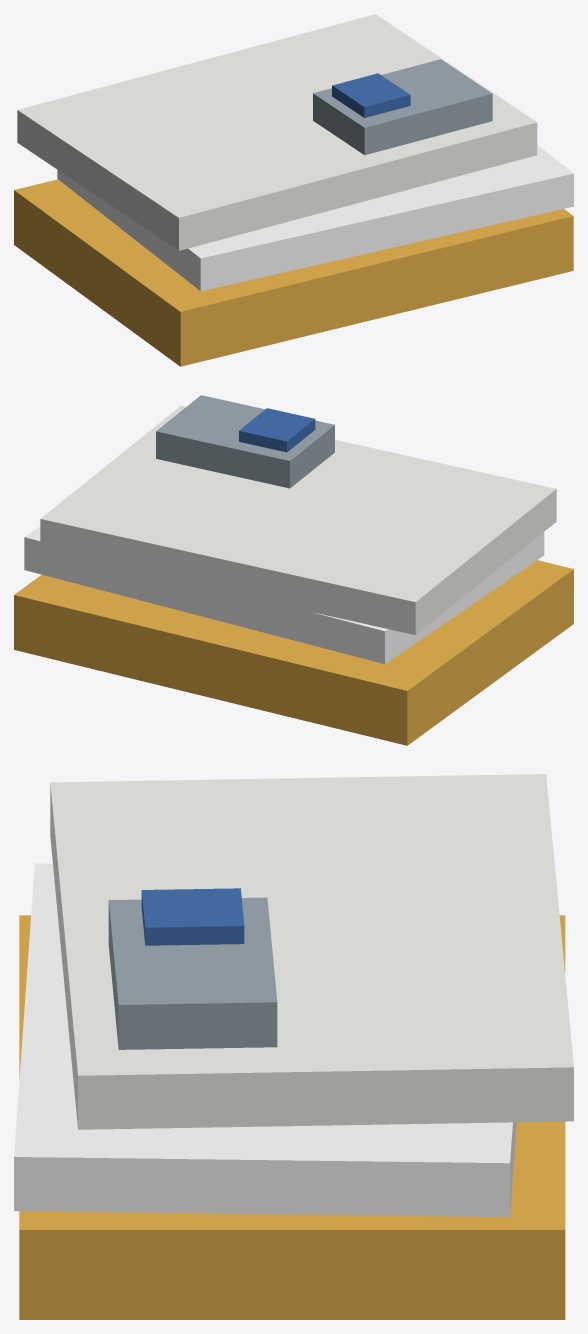
Rendered from item_documents.fbx.
3 renders of one model, top to bottom at view 1: azimuth 30°, elevation 25°; view 2: azimuth 150°, elevation 25°; view 3: azimuth 270°, elevation 25°, orthographic. The views are drawn at different scales.
Visible parts, largest first — view 1: M__item_documents; view 2: M__item_documents; view 3: M__item_documents.
Boxes of the visible parts, x1,y1,x2,y2 form: M__item_documents: (14,14,573,366); M__item_documents: (14,395,573,745); M__item_documents: (14,774,573,1319).
Bounding box in the file's own units: 0.1534 × 0.065 × 0.1128.
